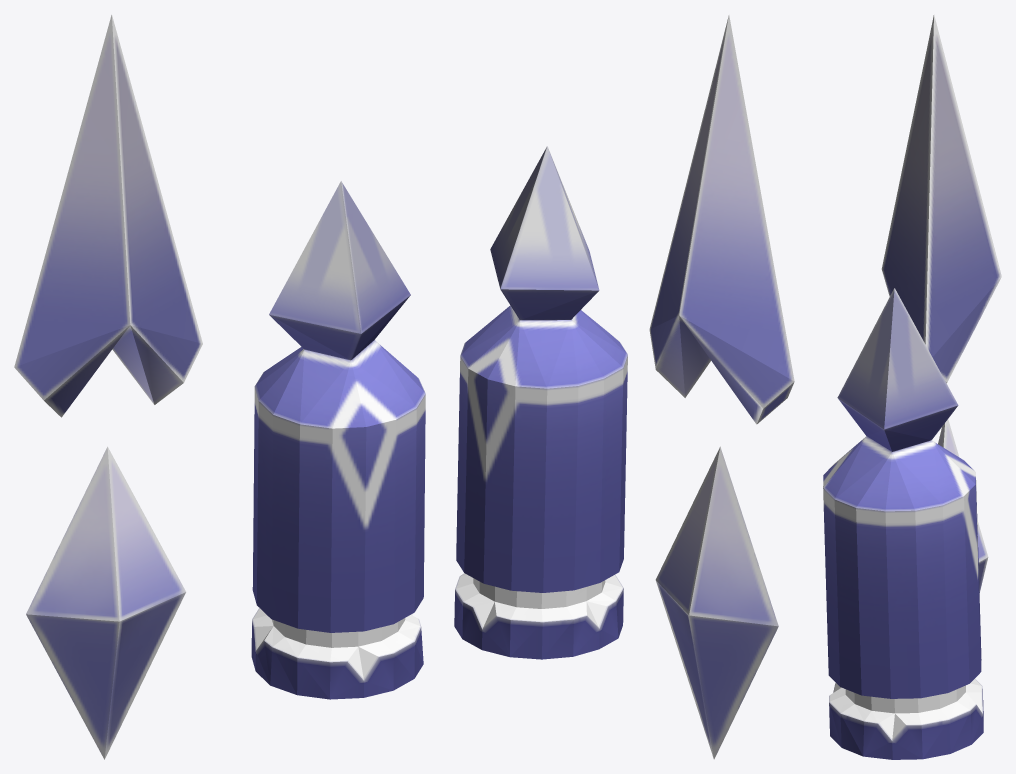
The model's file is SkillObj_Clorinde_Bullet_Model.glb.
3 renders of one model, left to right at view 1: azimuth 30°, elevation 25°; view 2: azimuth 150°, elevation 25°; view 3: azimuth 270°, elevation 25°, orthographic. The views are drawn at different scales.
Visible parts, largest first — view 1: SkillObj_Clorinde_Bullet_02, SkillObj_Clorinde_Bullet_01; view 2: SkillObj_Clorinde_Bullet_02, SkillObj_Clorinde_Bullet_01; view 3: SkillObj_Clorinde_Bullet_02, SkillObj_Clorinde_Bullet_01.
Part boxes in pixels (left/top/right/bottom): SkillObj_Clorinde_Bullet_02: left=251, top=181, right=425, bottom=699; SkillObj_Clorinde_Bullet_01: left=14, top=14, right=202, bottom=759; SkillObj_Clorinde_Bullet_02: left=454, top=146, right=627, bottom=659; SkillObj_Clorinde_Bullet_01: left=649, top=15, right=794, bottom=759; SkillObj_Clorinde_Bullet_02: left=823, top=288, right=983, bottom=759; SkillObj_Clorinde_Bullet_01: left=881, top=14, right=1001, bottom=592.
Bounding box in the file's own units: 0.1098 × 0.2171 × 0.0515.
Materials: 1 (1 with a texture image).
